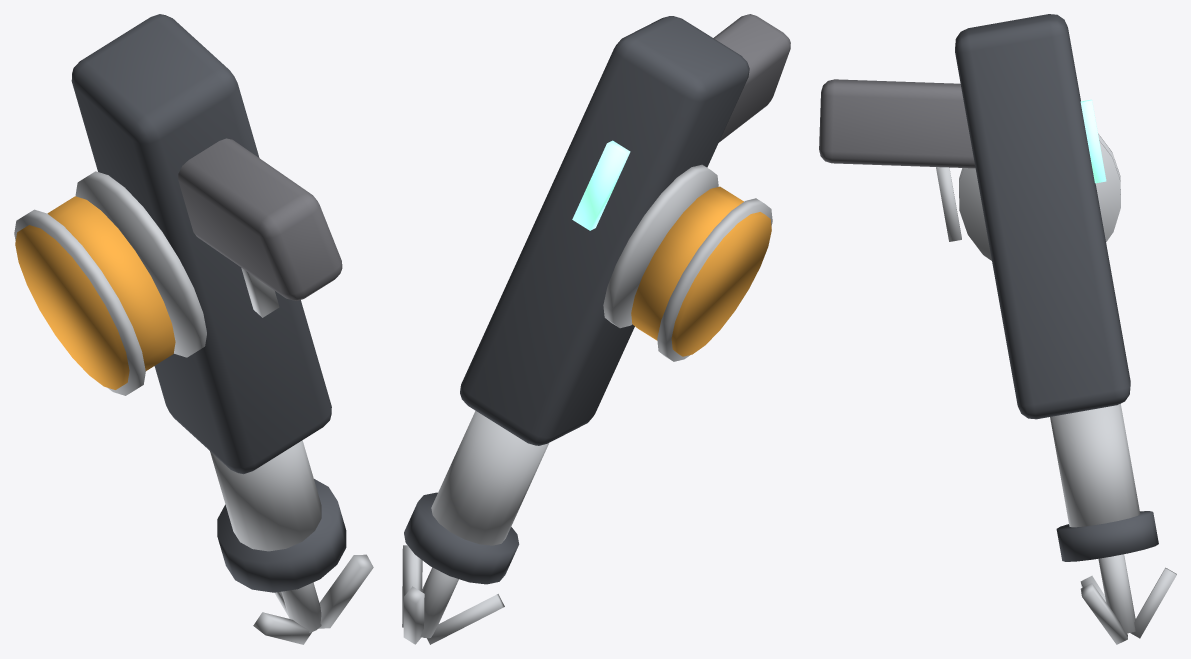
File: rope_gun_held.gltf
3 views of the same model, side by side, from view 1: azimuth 30°, elevation 25°; view 2: azimuth 150°, elevation 25°; view 3: azimuth 270°, elevation 25° (orthographic). The views are drawn at different scales.
Parts seen in each view (by area): view 1: rope_gun; view 2: rope_gun; view 3: rope_gun.
Boxes of the visible parts, x1,y1,x2,y2 form: rope_gun: (14, 14, 373, 644); rope_gun: (402, 14, 790, 644); rope_gun: (819, 14, 1176, 644).
Size of the model in its own units: 0.1981 by 0.3713 by 0.2185.
